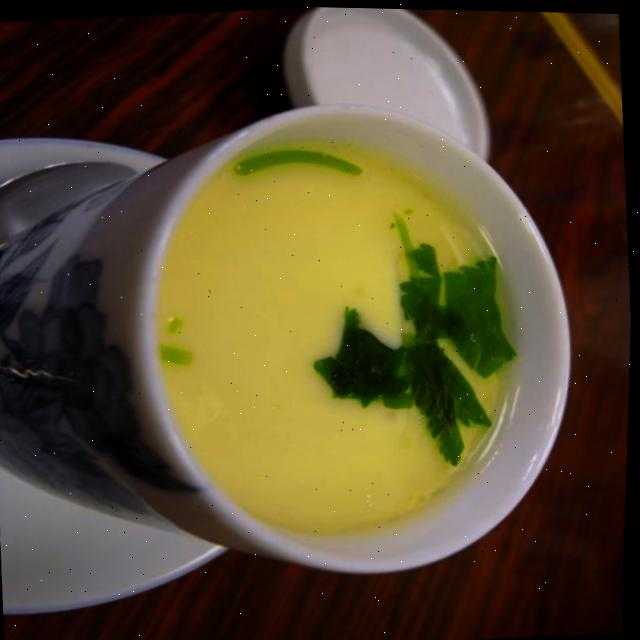鸡蛋料理: (0, 98, 620, 582)
